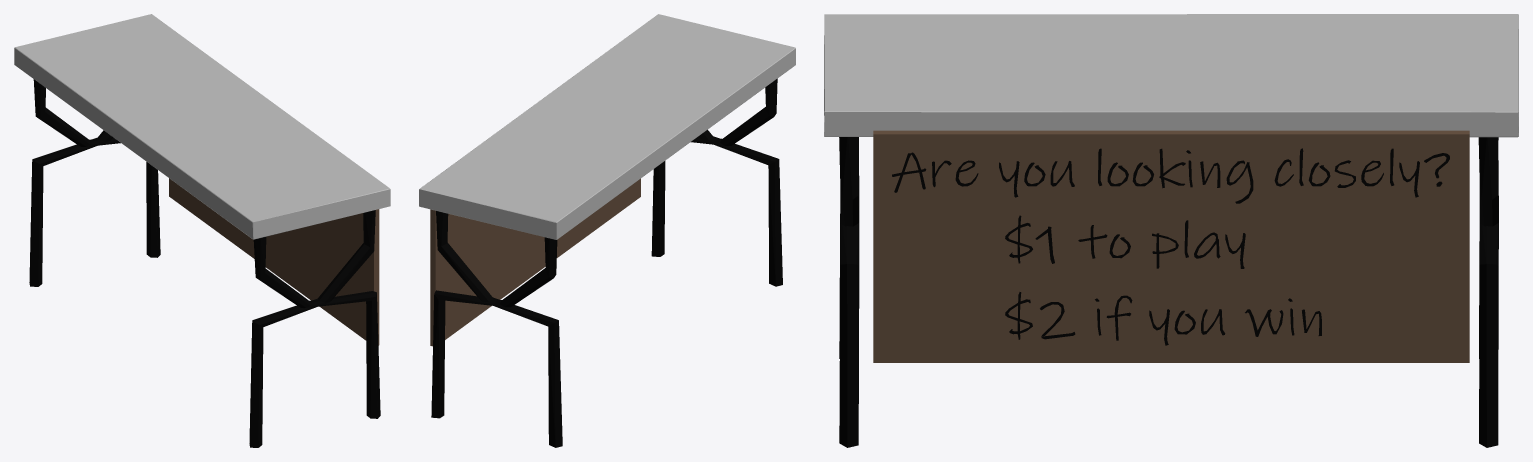
Rendered from 3-Card Monty Setup.glb.
3 views of the same model, side by side, from view 1: azimuth 30°, elevation 25°; view 2: azimuth 150°, elevation 25°; view 3: azimuth 270°, elevation 25° (orthographic). The views are drawn at different scales.
Parts seen in each view (by area): view 1: Top, Legs, Sign; view 2: Top, Legs, Sign; view 3: Sign, Top, Legs, Text.
Boxes of the visible parts, box(x1,y1,x2,y2) form: Top: box(14, 14, 390, 239); Legs: box(29, 79, 380, 447); Sign: box(169, 178, 379, 345); Top: box(419, 14, 795, 239); Legs: box(431, 78, 782, 447); Sign: box(430, 178, 640, 346); Sign: box(873, 130, 1469, 362); Top: box(824, 14, 1518, 137); Legs: box(839, 137, 1498, 447); Text: box(892, 148, 1449, 345).
Size of what is drawn, in the model's own units: 0.6341 by 0.9815 by 1.83.
